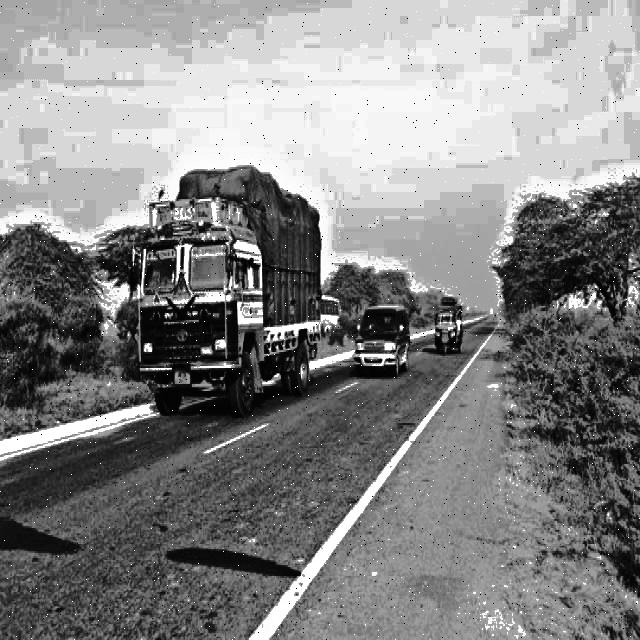HCV: (107, 145, 351, 431)
